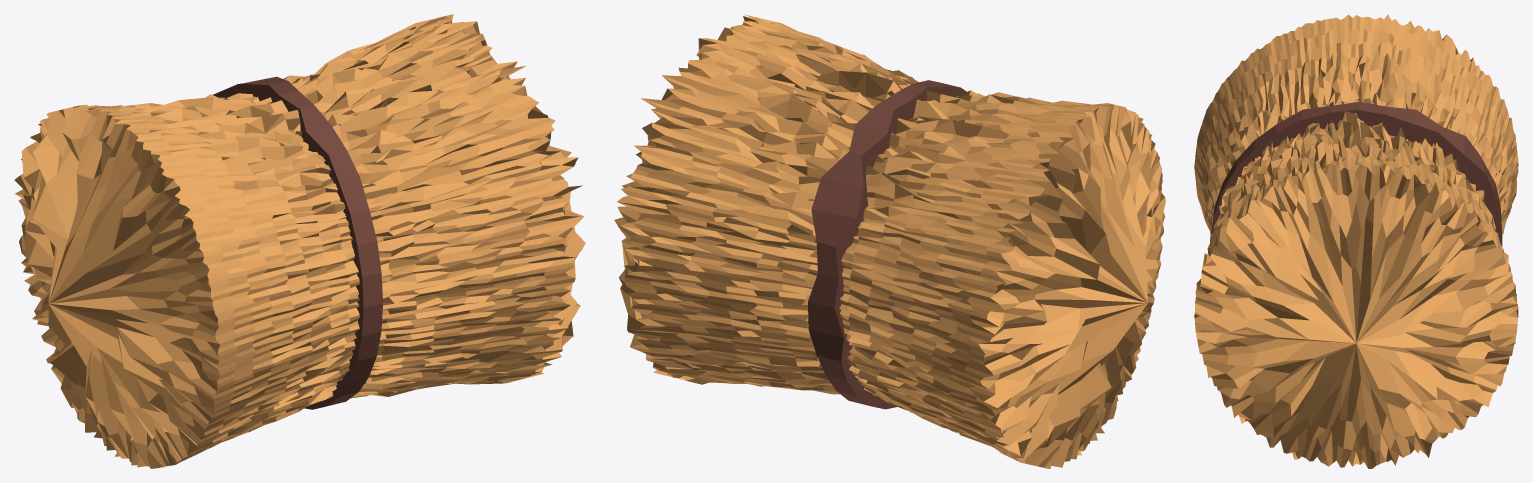
File: haybale.fbx
3 views of the same model, side by side, from view 1: azimuth 30°, elevation 25°; view 2: azimuth 150°, elevation 25°; view 3: azimuth 270°, elevation 25° (orthographic). The views are drawn at different scales.
Visible parts, largest first — view 1: Haybale; view 2: Haybale; view 3: Haybale.
Boxes of the visible parts, x1,y1,x2,y2 form: Haybale: [14, 14, 585, 468]; Haybale: [614, 14, 1165, 468]; Haybale: [1194, 14, 1518, 468].
Bounding box in the file's own units: 31565 × 20069 × 20019.
